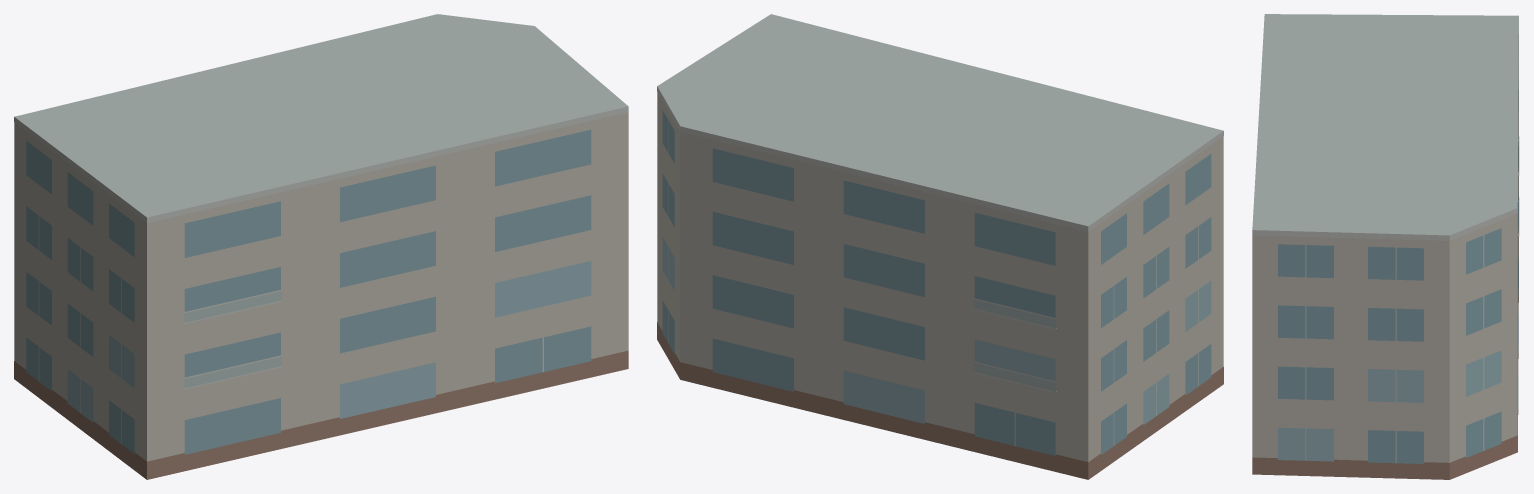
The model's file is survey-upis-32921934.glb.
3 views of the same model, side by side, from view 1: azimuth 30°, elevation 25°; view 2: azimuth 150°, elevation 25°; view 3: azimuth 270°, elevation 25° (orthographic). The views are drawn at different scales.
Visible parts, largest first — view 1: survey-upis-32921934.tmp; view 2: survey-upis-32921934.tmp; view 3: survey-upis-32921934.tmp.
Part boxes in pixels (x1,y1,x2,y2): survey-upis-32921934.tmp: (14, 14, 628, 479); survey-upis-32921934.tmp: (657, 14, 1223, 479); survey-upis-32921934.tmp: (1252, 14, 1519, 479).
Bounding box in the file's own units: 21.77 × 11.2 × 11.11.
